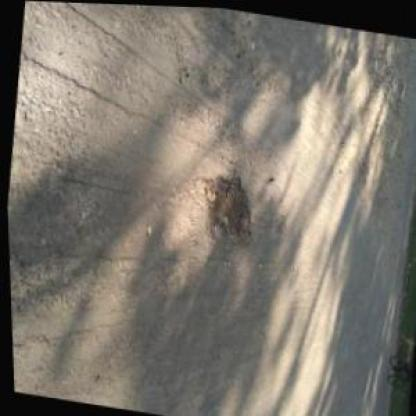pothole: (188, 162, 260, 252)
